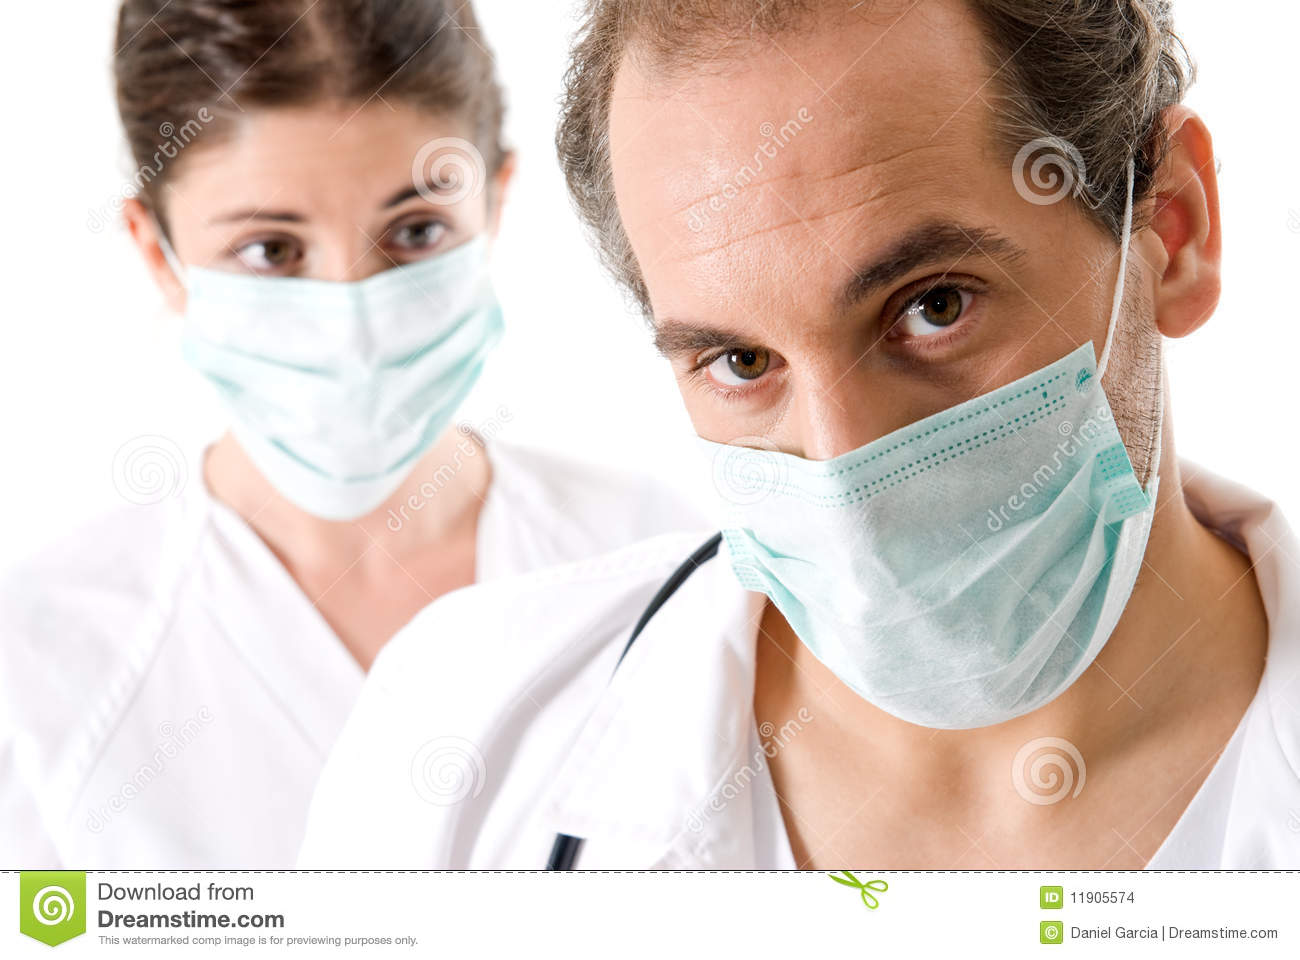mask: (705, 357, 1152, 737)
